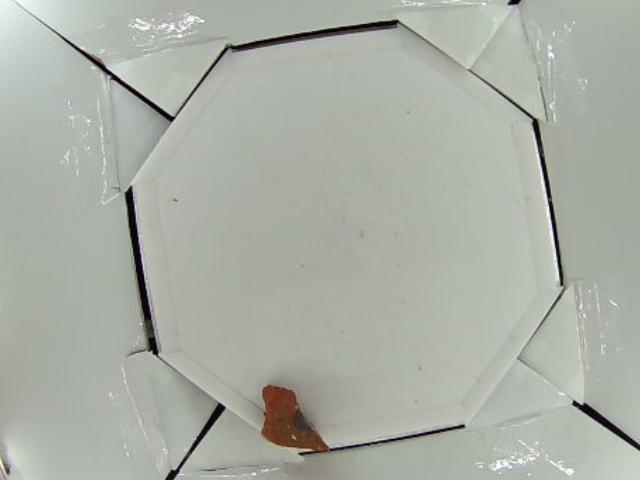Brisk: (259, 381, 329, 451)
